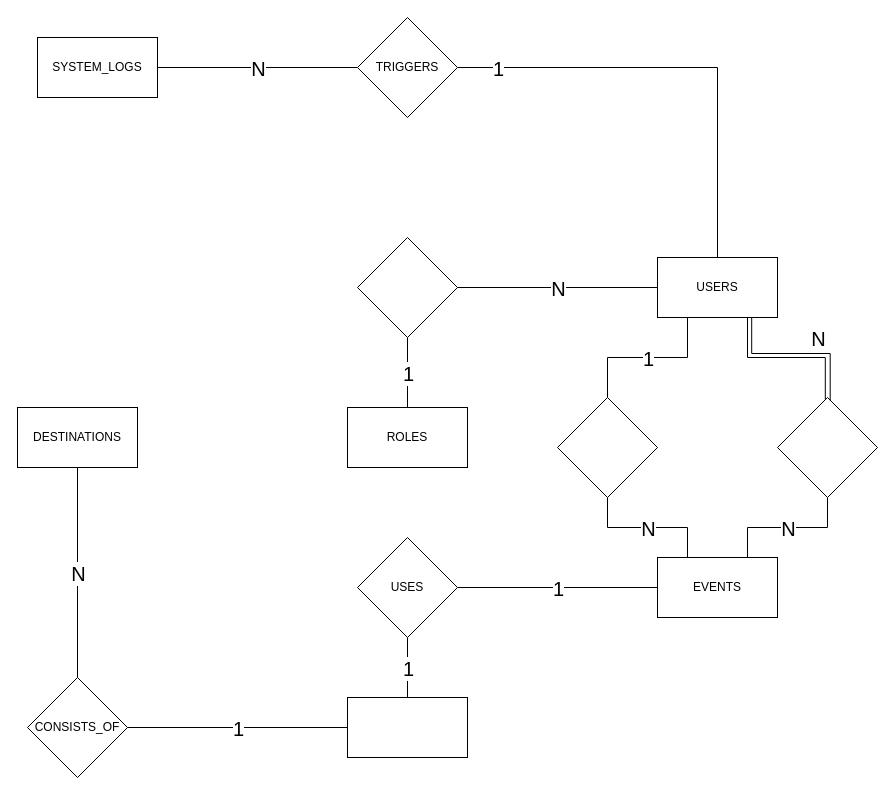
Some shapes in this 895 by 795 pixel diagram are drawn without their labels. The centre of each missing label's shape, as x and y in pixels:
"ATTENDS" belongs at [827,447].
"BELONGS_TO" belongs at [407,287].
"CREATES" belongs at [607,447].
"Routes" belongs at [407,727].
